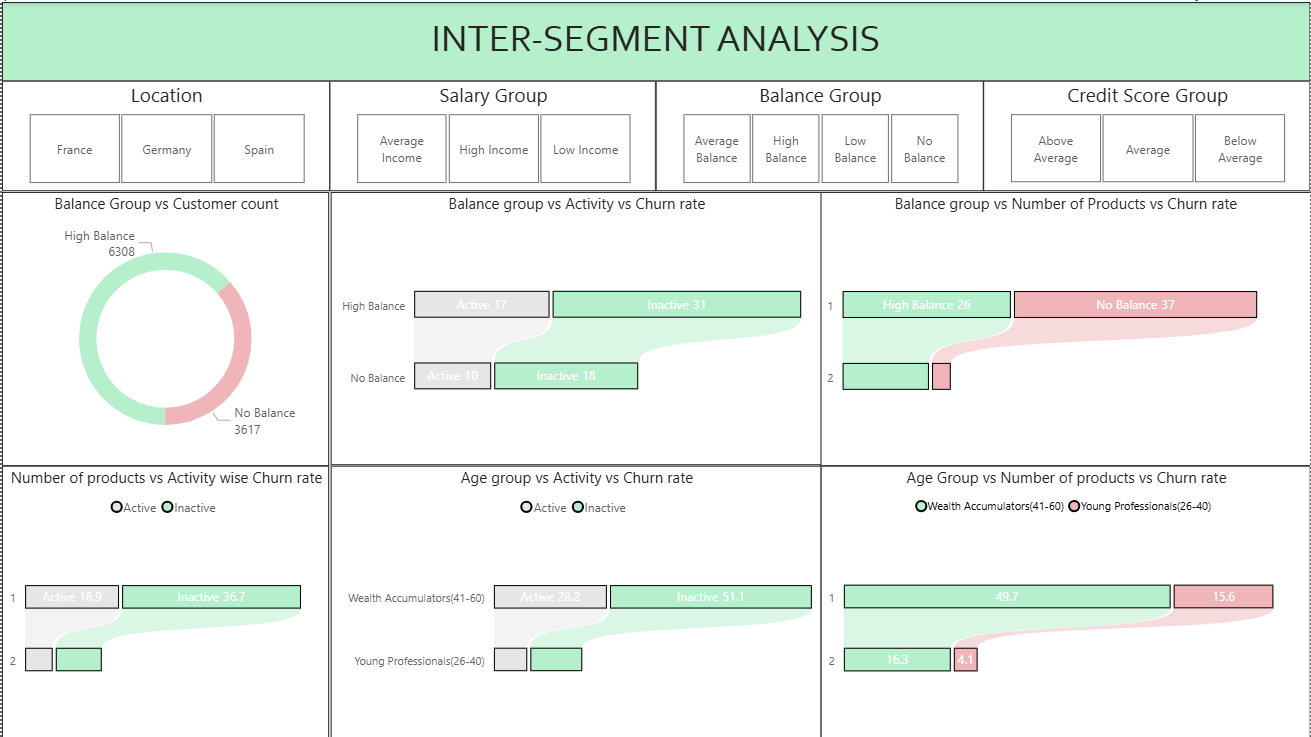

Layout of this report page (visuals, bound fields, positions):
{"tool":"powerbi","page":{"name":"Inter-Segment Analysis","canvas":[1280,720],"ordinal":1},"visuals":[{"type":"textbox","box":[0,0,1280,77.5],"z":0},{"type":"slicer","title":"Location","fields":{"Values":["Bank_Churn.Geography"]},"box":[0,77.5,320.7,108.2],"z":1000},{"type":"slicer","title":"Salary Group","fields":{"Values":["Bank_Churn.Salary_Group"]},"box":[320.7,77.5,319.4,108.2],"z":2000},{"type":"slicer","title":"Balance Group","fields":{"Values":["Bank_Churn.Balance_Group"]},"box":[640.1,77.5,320.7,108.2],"z":3000},{"type":"donutChart","title":"Balance Group vs Customer count","fields":{"Y":["Measuress.Customer_cnt"],"Category":["Bank_Churn.Balance_Group"]},"box":[0,185.9,320.4,267.8],"z":4000},{"type":"barChart","title":"Age group vs Activity vs Churn rate","fields":{"Category":["Bank_Churn.Age_Group"],"Series":["Bank_Churn.Activity"],"Y":["Measuress.Churn_Rate"]},"box":[321.2,453.5,480,266.5],"z":5000},{"type":"barChart","title":"Balance group vs Number of Products vs Churn rate","fields":{"Y":["Measuress.Churn_Rate"],"Category":["Bank_Churn.Num_Of_Products"],"Series":["Bank_Churn.Balance_Group"]},"box":[799.7,185.9,480.6,267.8],"z":6000},{"type":"barChart","title":"Balance group vs Activity vs Churn rate","fields":{"Y":["Measuress.Churn_Rate"],"Category":["Bank_Churn.Balance_Group"],"Series":["Bank_Churn.Activity"]},"box":[321.2,186.5,480,267.1],"z":7000},{"type":"slicer","title":"Credit Score Group","fields":{"Values":["Bank_Churn.Credit_Score_Group"]},"box":[959.9,77,320.4,107.6],"z":8000},{"type":"barChart","title":"Age Group vs Number of products vs Churn rate","fields":{"Y":["Measuress.Churn_Rate"],"Category":["Bank_Churn.Num_Of_Products"],"Series":["Bank_Churn.Age_Group"]},"box":[801,453.7,479.4,266.6],"z":9000},{"type":"barChart","title":"Number of products vs Activity wise Churn rate","fields":{"Category":["Bank_Churn.Num_Of_Products"],"Series":["Bank_Churn.Activity"],"Y":["Measuress.Churn_Rate"]},"box":[0,453.7,320.4,266.6],"z":10000}]}

Visuals, with their boxes in screenshot pixels (x1, y1, x2, y2), scaled from the page's 1280x720 canvas onto the 1311x737 screenshot:
textbox: [left=0, top=0, right=1310, bottom=79]
"Location" slicer: [left=0, top=79, right=328, bottom=190]
"Salary Group" slicer: [left=328, top=79, right=656, bottom=190]
"Balance Group" slicer: [left=656, top=79, right=984, bottom=190]
"Balance Group vs Customer count" donutChart: [left=0, top=190, right=328, bottom=464]
"Age group vs Activity vs Churn rate" barChart: [left=329, top=464, right=821, bottom=736]
"Balance group vs Number of Products vs Churn rate" barChart: [left=819, top=190, right=1310, bottom=464]
"Balance group vs Activity vs Churn rate" barChart: [left=329, top=191, right=821, bottom=464]
"Credit Score Group" slicer: [left=983, top=79, right=1310, bottom=189]
"Age Group vs Number of products vs Churn rate" barChart: [left=820, top=464, right=1310, bottom=736]
"Number of products vs Activity wise Churn rate" barChart: [left=0, top=464, right=328, bottom=736]
